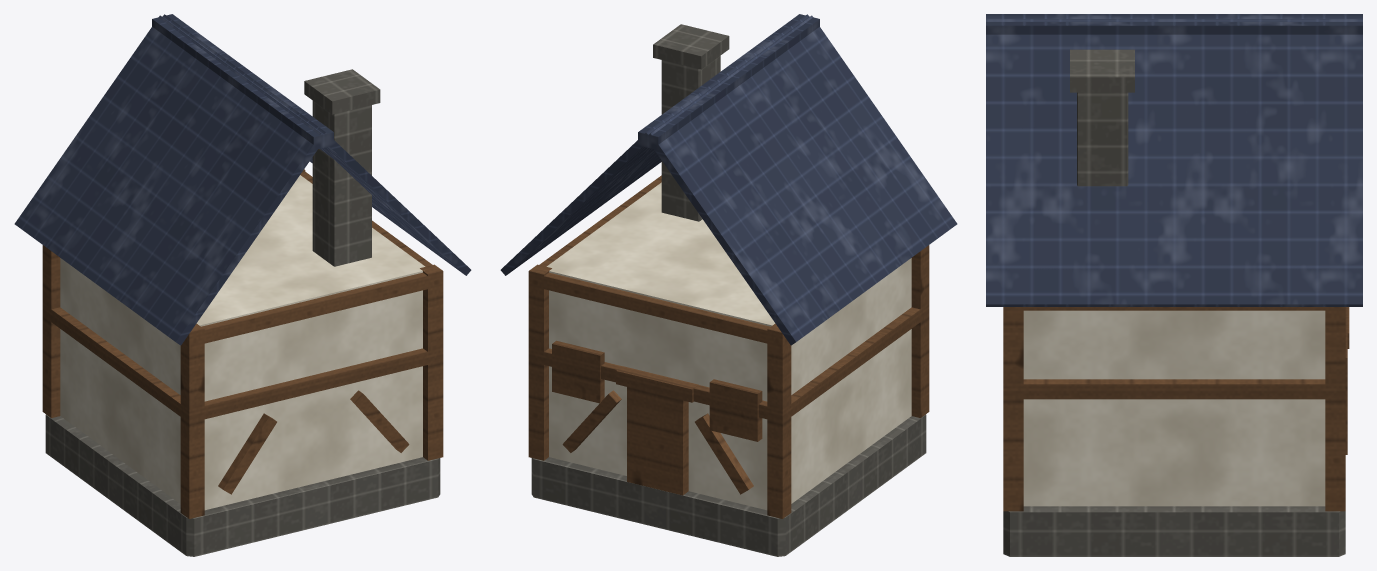
Rendered from house.glb.
3 renders of one model, left to right at view 1: azimuth 30°, elevation 25°; view 2: azimuth 150°, elevation 25°; view 3: azimuth 270°, elevation 25°, orthographic. The views are drawn at different scales.
Parts seen in each view (by area): view 1: House; view 2: House; view 3: House.
Part boxes in pixels (bbox=[...]): House: bbox=[14, 14, 471, 556]; House: bbox=[500, 14, 957, 556]; House: bbox=[986, 14, 1362, 556].
Bounding box in the file's own units: 2.33 × 3.01 × 2.2.
Materials: 8 (7 with a texture image).
